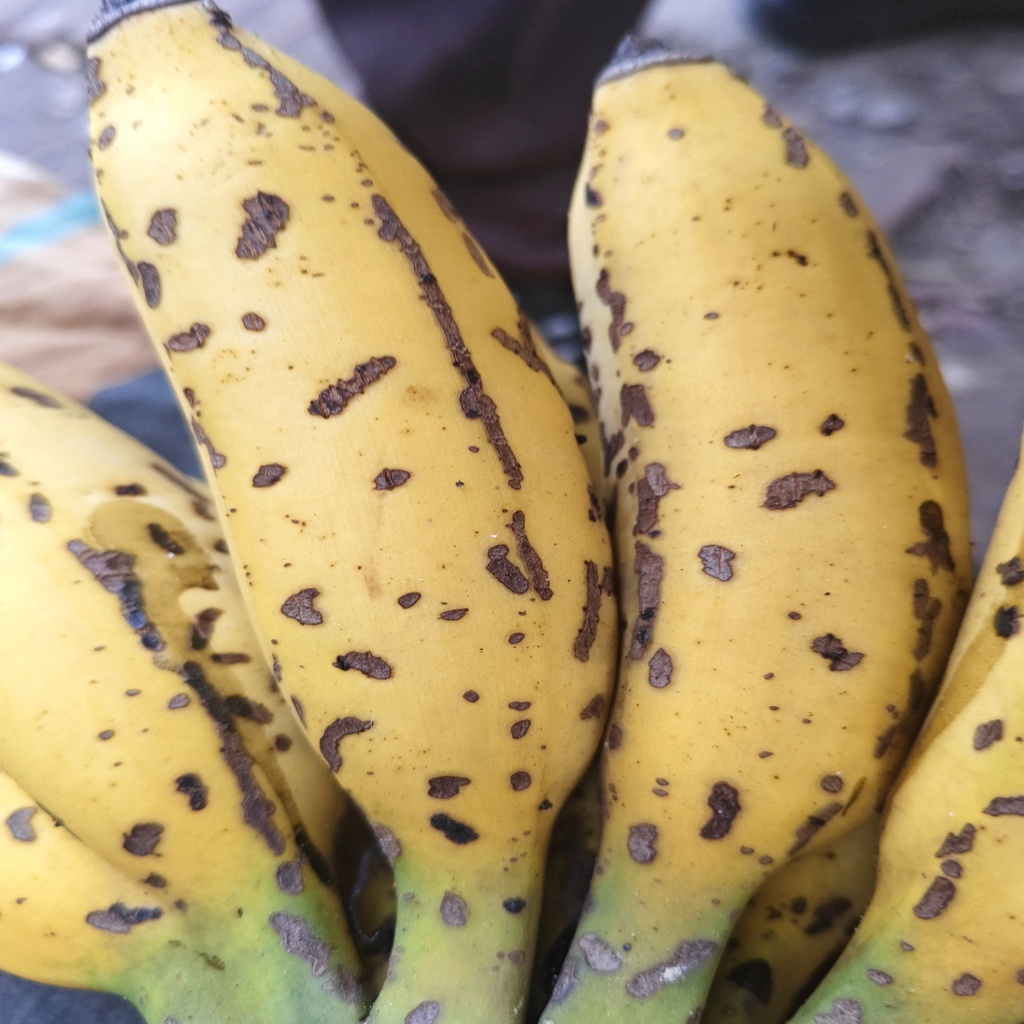unhealthy: (79, 4, 623, 863), (562, 48, 977, 937)
